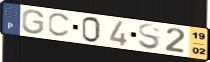0: (81, 16, 103, 44)
2: (164, 27, 188, 55)
4: (109, 20, 129, 47)
C: (46, 13, 72, 39)
G: (20, 9, 46, 36)
S: (137, 23, 162, 51)
